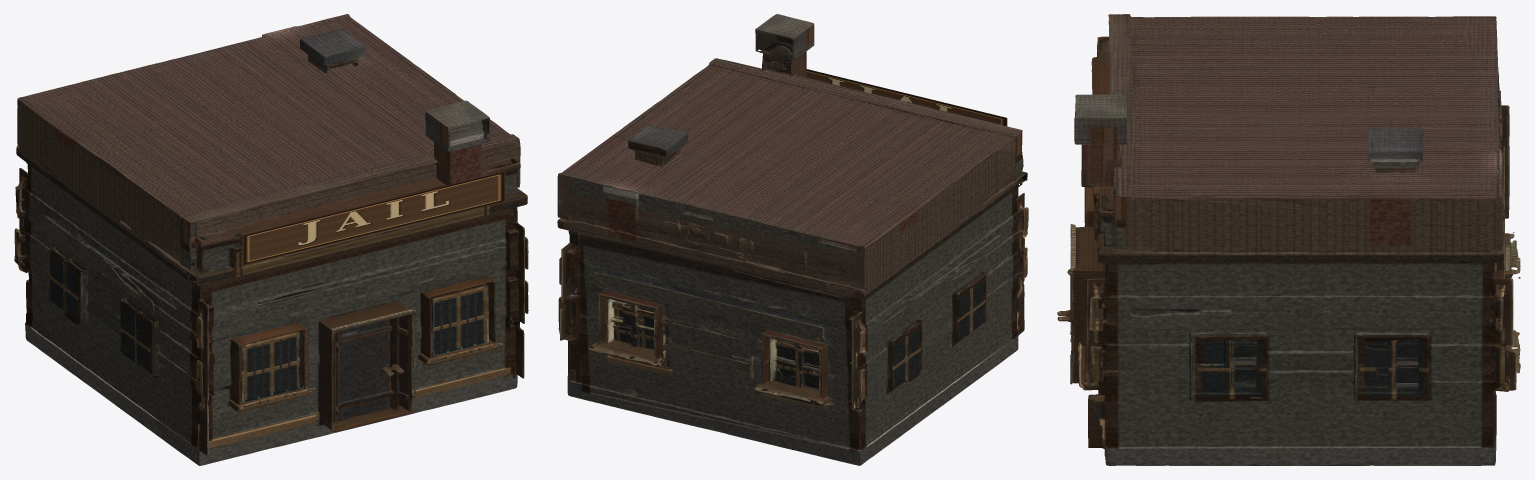
Rendered from scene-1-objects-4-glbData-77c259e1f09a.glb.
3 renders of one model, left to right at view 1: azimuth 30°, elevation 25°; view 2: azimuth 150°, elevation 25°; view 3: azimuth 270°, elevation 25°, orthographic. The views are drawn at different scales.
Visible parts, largest first — view 1: Jail_Repaired_Optimized; view 2: Jail_Repaired_Optimized; view 3: Jail_Repaired_Optimized.
Part boxes in pixels (x1,y1,x2,y2): Jail_Repaired_Optimized: [14, 14, 528, 465]; Jail_Repaired_Optimized: [557, 14, 1028, 465]; Jail_Repaired_Optimized: [1057, 14, 1520, 465].
Bounding box in the file's own units: 7.2 × 5.99 × 7.7.
2 materials, 2 textured.
